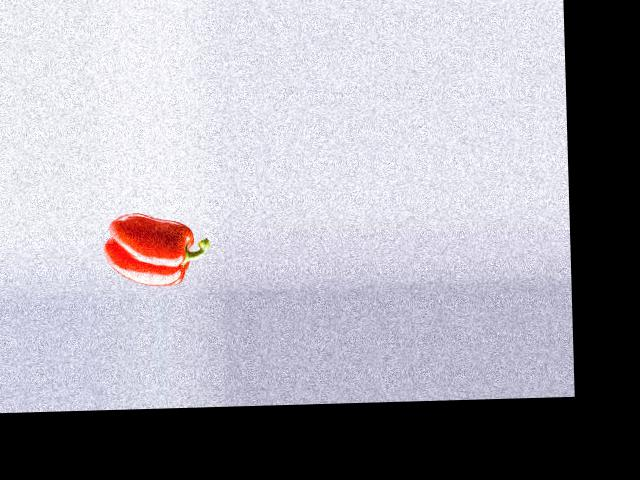bell_pepper: (106, 209, 211, 291)
